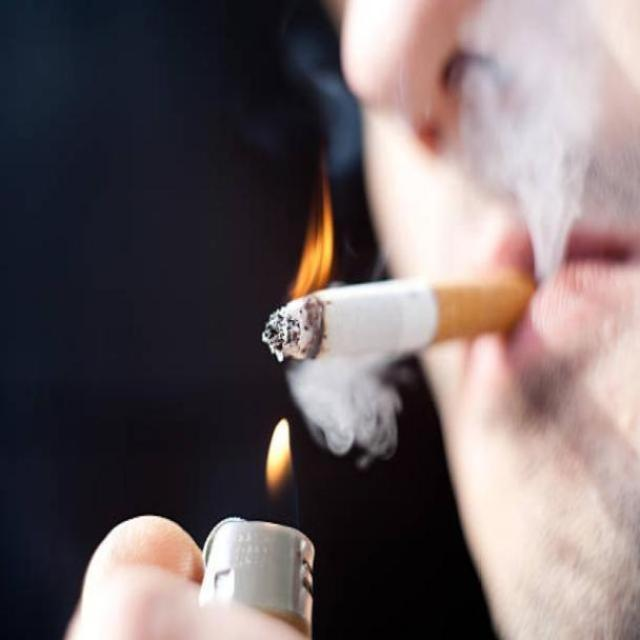rokok: (258, 274, 538, 364)
